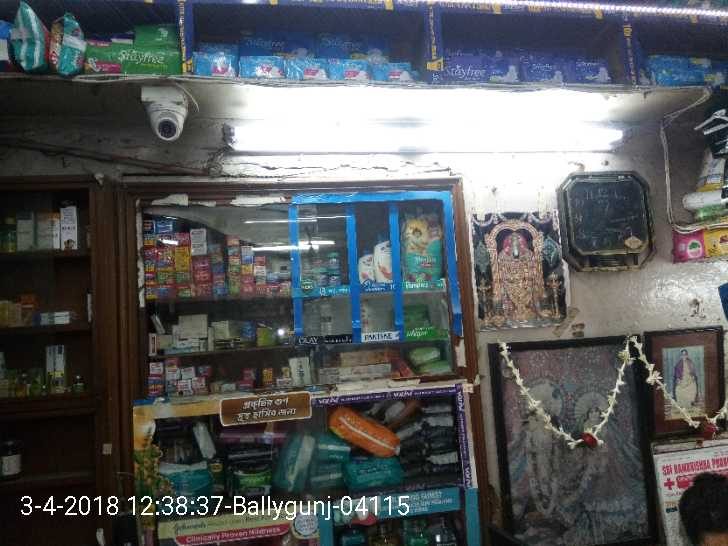vicks: (314, 252, 344, 287)
